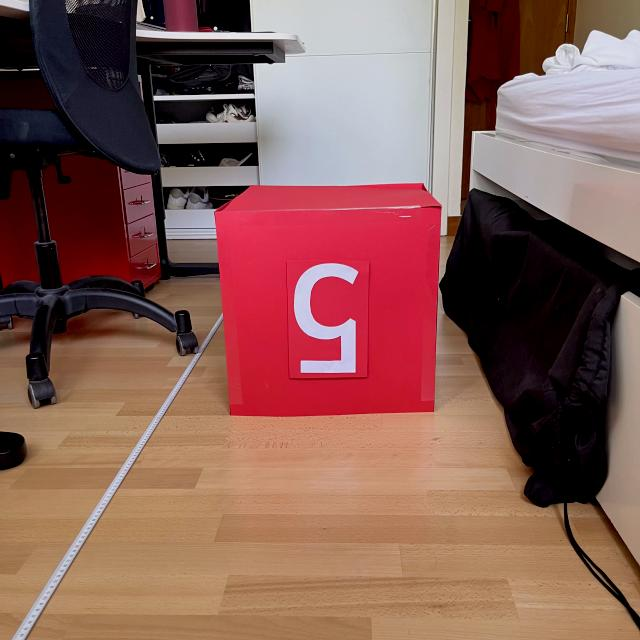box: (210, 180, 444, 418)
